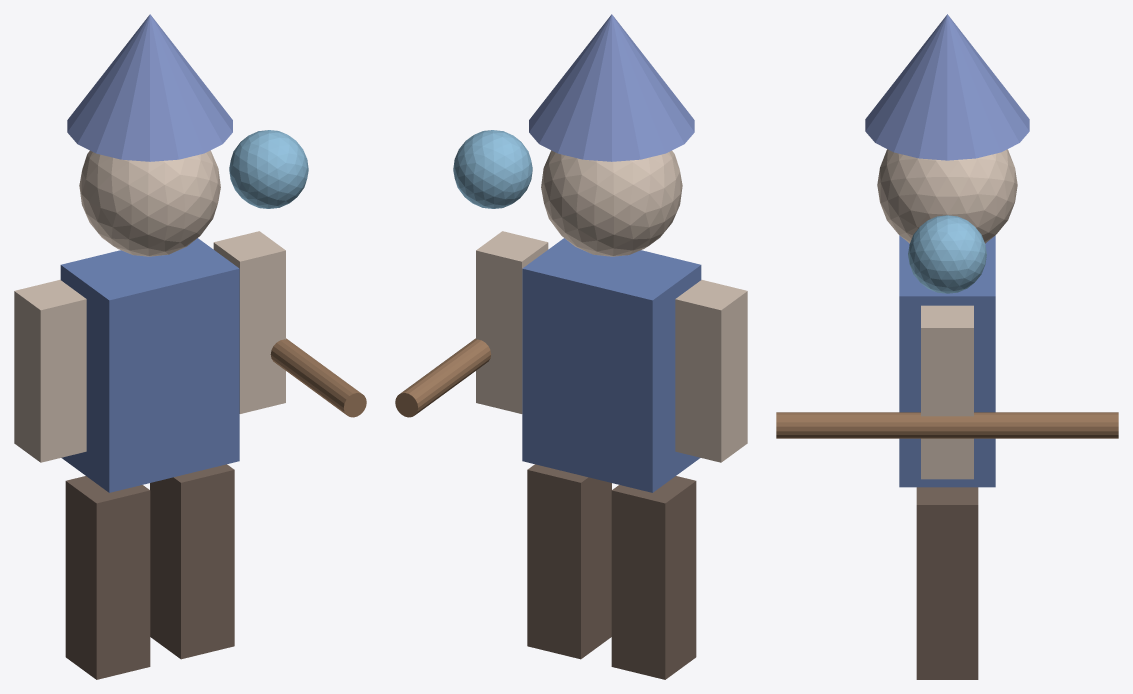
Rendered from wizard.glb.
3 views of the same model, side by side, from view 1: azimuth 30°, elevation 25°; view 2: azimuth 150°, elevation 25°; view 3: azimuth 270°, elevation 25° (orthographic).
Parts seen in each view (by area): view 1: g0, g4, g5, g6, g2, g1, g3, g8, g7; view 2: g0, g4, g5, g6, g2, g1, g3, g8, g7; view 3: g6, g5, g0, g1, g7, g3, g8.
Part boxes in pixels (x1,y1,x2,y2): g0: [60, 238, 239, 492]; g4: [65, 476, 150, 679]; g5: [150, 464, 234, 659]; g6: [67, 14, 232, 161]; g2: [14, 280, 86, 462]; g1: [79, 150, 220, 256]; g3: [213, 231, 285, 413]; g8: [229, 130, 308, 208]; g7: [270, 338, 366, 417]; g0: [522, 238, 701, 492]; g4: [611, 476, 696, 679]; g5: [527, 464, 611, 659]; g6: [529, 14, 694, 161]; g2: [675, 280, 747, 462]; g1: [541, 150, 682, 256]; g3: [476, 231, 548, 413]; g8: [453, 130, 532, 208]; g7: [395, 338, 491, 417]; g6: [865, 14, 1029, 160]; g5: [916, 487, 978, 679]; g0: [899, 235, 995, 487]; g1: [877, 149, 1017, 243]; g7: [776, 412, 1118, 438]; g3: [921, 305, 973, 479]; g8: [908, 215, 986, 293].
Size of the model in its own units: 0.72 by 1.59 by 0.78.
